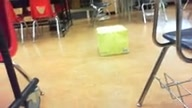cube: (96, 24, 130, 57)
